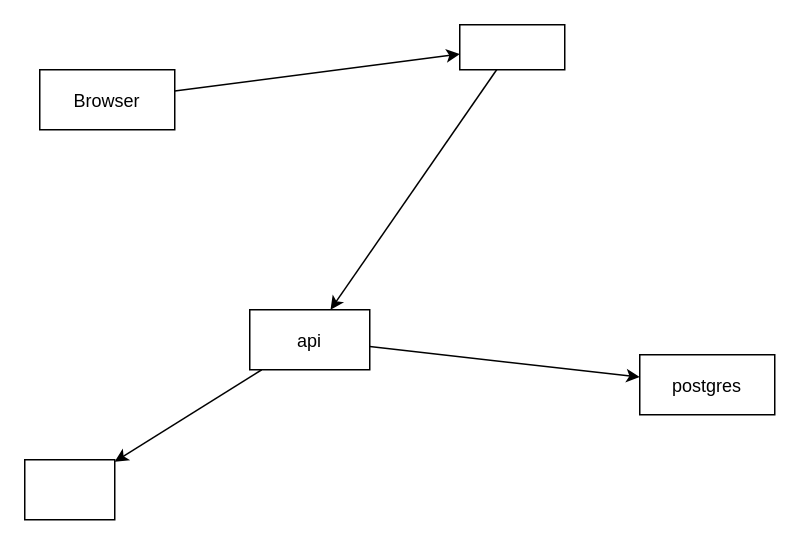
This 800x545 diagram has some shape labels left out. Each missing label, with the box of its shape:
nginx: (458, 23, 565, 70)
redis: (23, 458, 115, 520)
